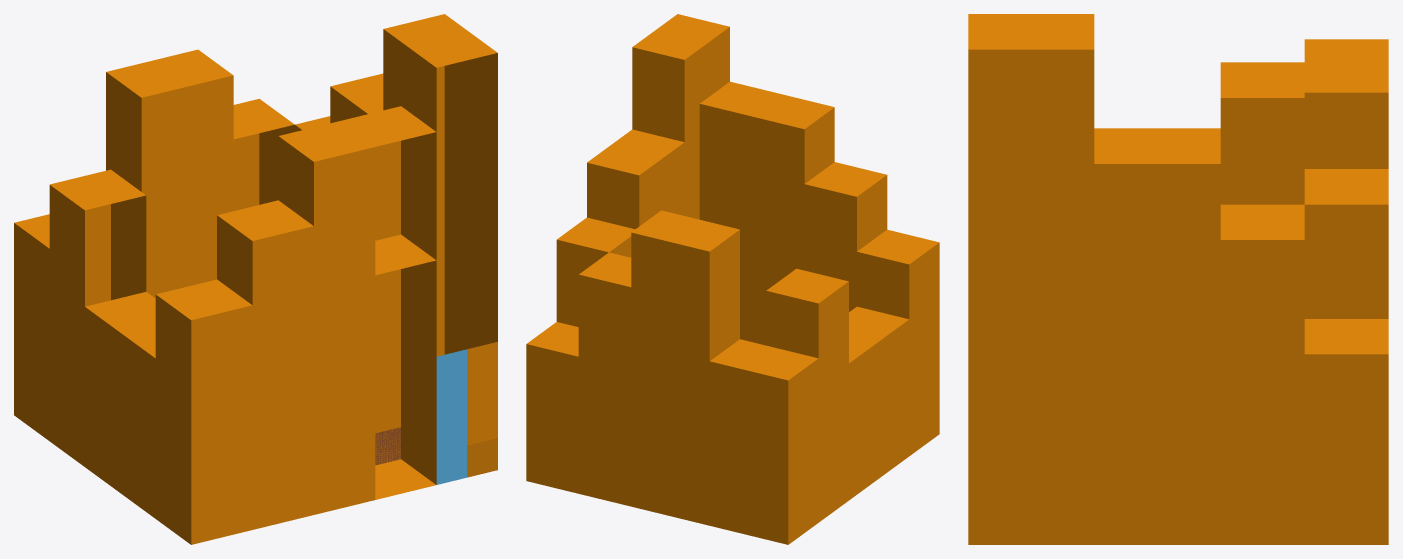
The model's file is Pottery3.gltf.
The picture shows the model from 3 angles, left to right: view 1: azimuth 30°, elevation 25°; view 2: azimuth 150°, elevation 25°; view 3: azimuth 270°, elevation 25°; orthographic projection. The views are drawn at different scales.
Parts seen in each view (by area): view 1: cube (×2); view 2: cube; view 3: cube.
Boxes of the visible parts, x1,y1,x2,y2 form: cube (×2): (14,14,497,544); cube: (526,14,939,544); cube: (968,14,1388,544).
Bounding box in the file's own units: 0.625 × 0.8125 × 0.625.
